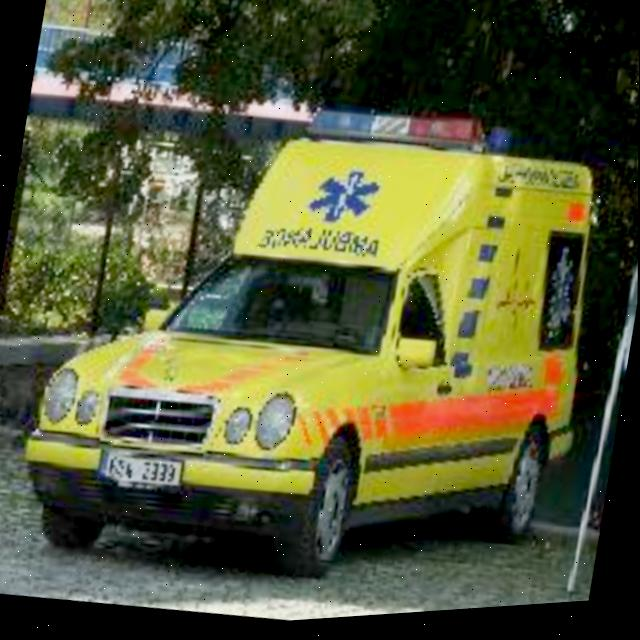emergency: (0, 52, 629, 640)
